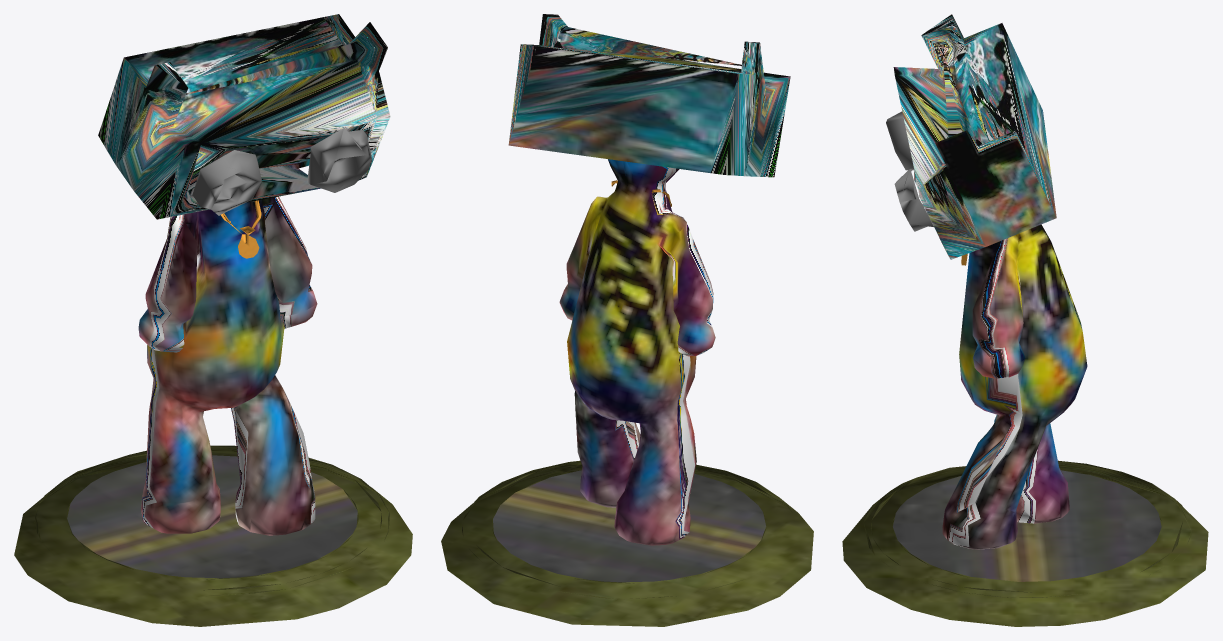
3 views of the same model, side by side, from view 1: azimuth 30°, elevation 25°; view 2: azimuth 150°, elevation 25°; view 3: azimuth 270°, elevation 25° (orthographic). The views are drawn at different scales.
Size of the model in its own units: 1.44 by 2.11 by 1.43.
6 materials, 5 textured.
